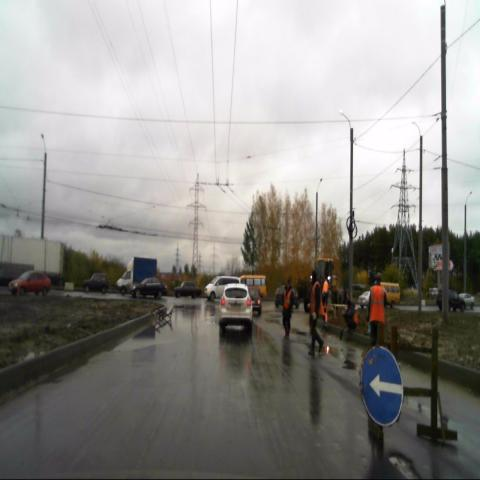4_1_2_2: (360, 344, 404, 427)
